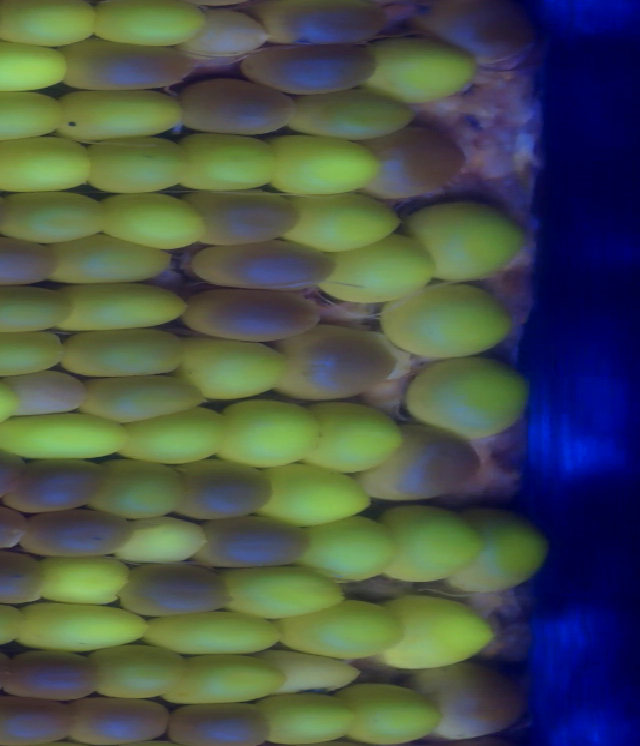fluorescent: (403, 357, 531, 436), (415, 198, 525, 287), (377, 283, 511, 351), (315, 235, 441, 303), (381, 597, 490, 674), (452, 508, 547, 590), (279, 601, 400, 662), (268, 132, 378, 197), (363, 39, 473, 102), (381, 508, 475, 581), (287, 87, 414, 139), (56, 282, 190, 331), (214, 400, 323, 460), (262, 462, 368, 523), (57, 88, 181, 140), (182, 333, 280, 398), (53, 234, 173, 287), (308, 403, 403, 469), (147, 611, 282, 657), (283, 196, 397, 250), (79, 372, 202, 422), (15, 603, 154, 647), (0, 413, 130, 460), (223, 567, 343, 617), (178, 128, 274, 189), (60, 328, 188, 373), (339, 684, 440, 741), (90, 134, 182, 196), (302, 518, 394, 580), (103, 193, 203, 248), (1, 187, 100, 242), (118, 412, 228, 460), (98, 459, 183, 521), (93, 3, 205, 47), (172, 657, 281, 702), (40, 552, 129, 607), (91, 642, 178, 697), (0, 137, 90, 190), (263, 694, 355, 744), (0, 3, 96, 50), (271, 650, 361, 693), (0, 37, 68, 92), (123, 515, 202, 562), (0, 284, 72, 334), (0, 88, 63, 142), (0, 335, 63, 376)
nonfluorescent: (363, 425, 478, 500), (278, 325, 394, 395), (193, 241, 339, 289), (363, 132, 465, 200), (244, 41, 373, 94), (63, 41, 196, 92), (192, 290, 320, 342), (426, 668, 520, 737), (174, 457, 269, 522), (194, 520, 312, 571), (181, 82, 298, 133), (123, 565, 232, 619), (5, 460, 107, 514), (190, 194, 297, 245), (21, 508, 128, 557), (68, 692, 168, 741), (7, 651, 94, 705), (0, 694, 71, 746), (168, 708, 267, 743), (0, 237, 54, 283), (0, 551, 42, 603)
